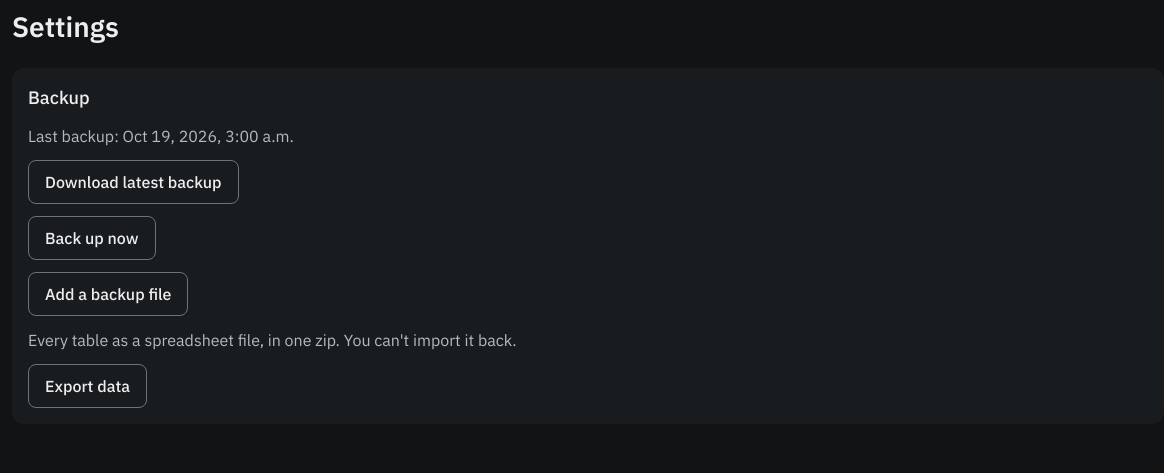
Test: Back up now › shows the error detail when it fails
Click the button "Back up now": (92, 238) [28,216,156,260]
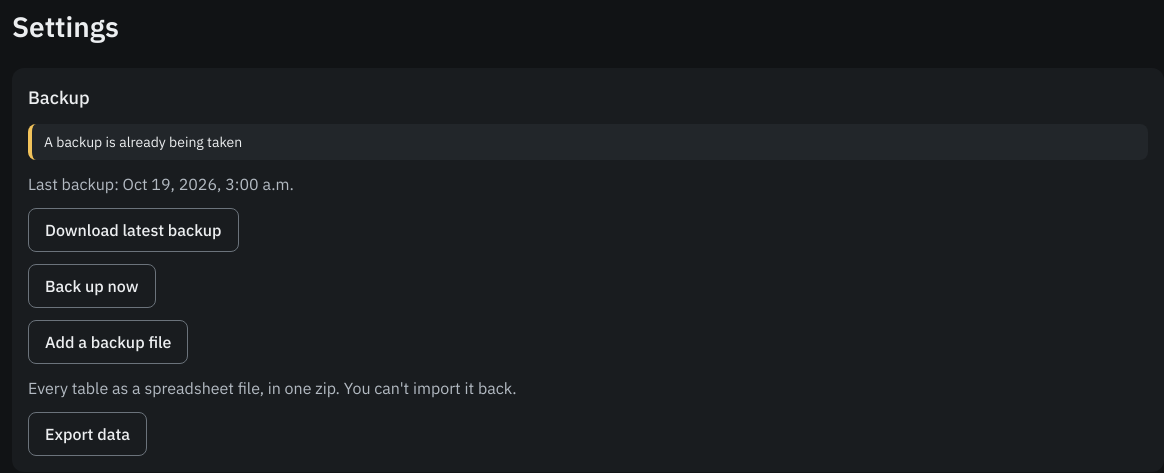
Expected: the text "A backup is already being taken" is shown, [28,124,1148,160]
